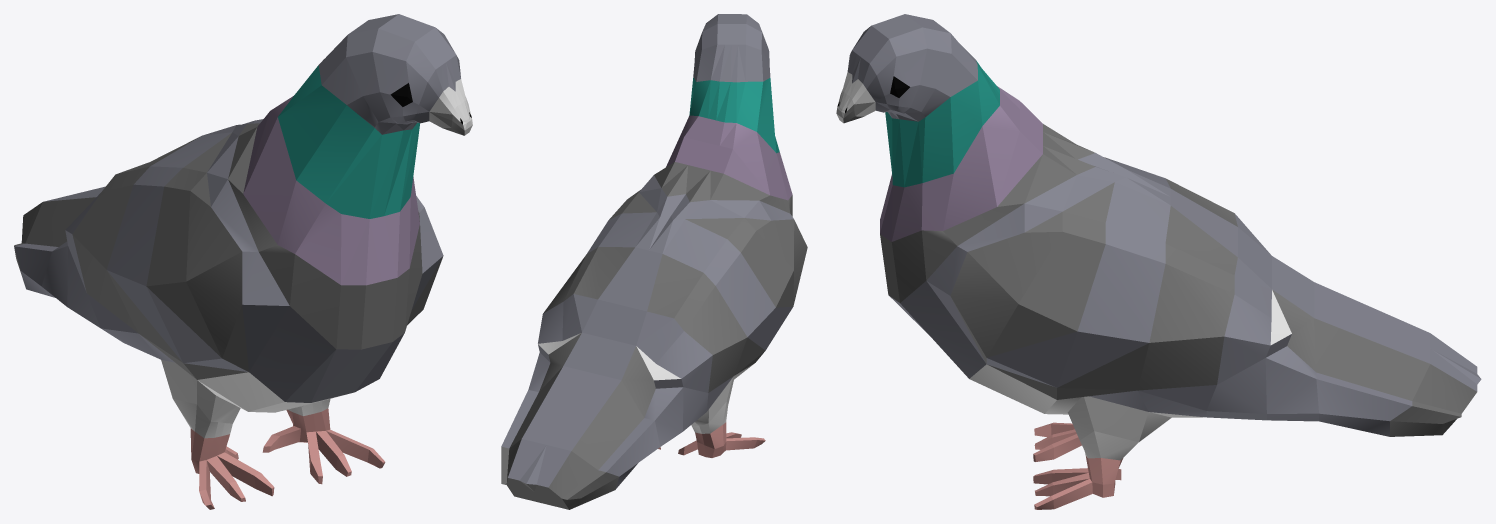
The model's file is pigeon_coloured.fbx.
3 renders of one model, left to right at view 1: azimuth 30°, elevation 25°; view 2: azimuth 150°, elevation 25°; view 3: azimuth 270°, elevation 25°, orthographic. The views are drawn at different scales.
Visible parts, largest first — view 1: pigeon2; view 2: pigeon2; view 3: pigeon2.
Boxes of the visible parts, <box> form: pigeon2: <box>14,14,472,509</box>; pigeon2: <box>501,14,807,509</box>; pigeon2: <box>836,14,1481,509</box>.
Size of the model in its own units: 7.05 by 13.65 by 17.24.
